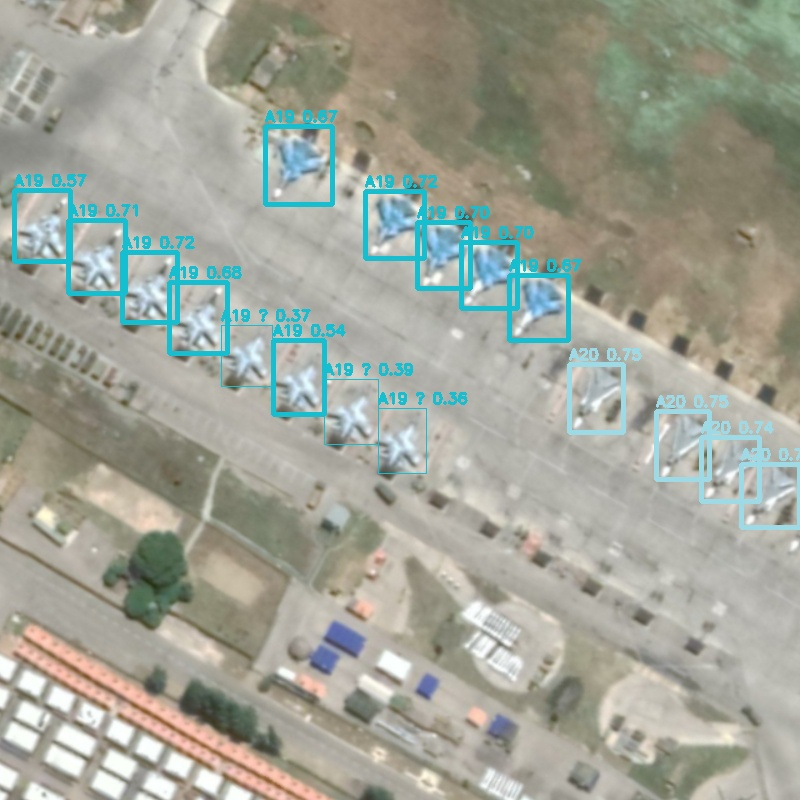A19: (265, 126, 332, 204), (68, 220, 125, 293), (169, 282, 227, 353), (14, 190, 70, 261), (365, 191, 424, 258), (122, 252, 177, 322), (509, 275, 568, 340), (273, 340, 324, 414), (461, 242, 517, 308), (324, 379, 378, 444), (417, 222, 470, 288), (378, 408, 426, 473), (221, 325, 272, 386)
A20: (701, 437, 759, 501), (569, 364, 623, 432), (741, 464, 799, 527), (656, 411, 709, 479)
